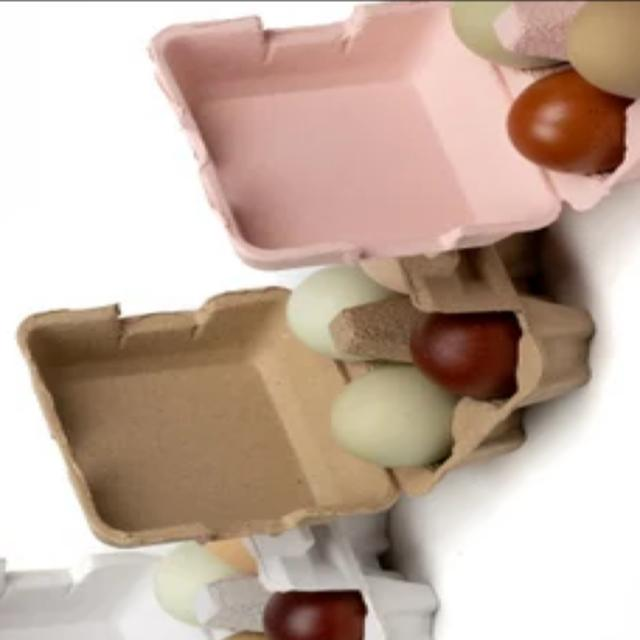eggs: (504, 66, 634, 177), (329, 363, 463, 465), (288, 264, 409, 363), (412, 310, 523, 400), (150, 540, 248, 630), (449, 0, 570, 68), (565, 0, 640, 100), (263, 589, 368, 640), (204, 536, 258, 574), (360, 258, 408, 294)
